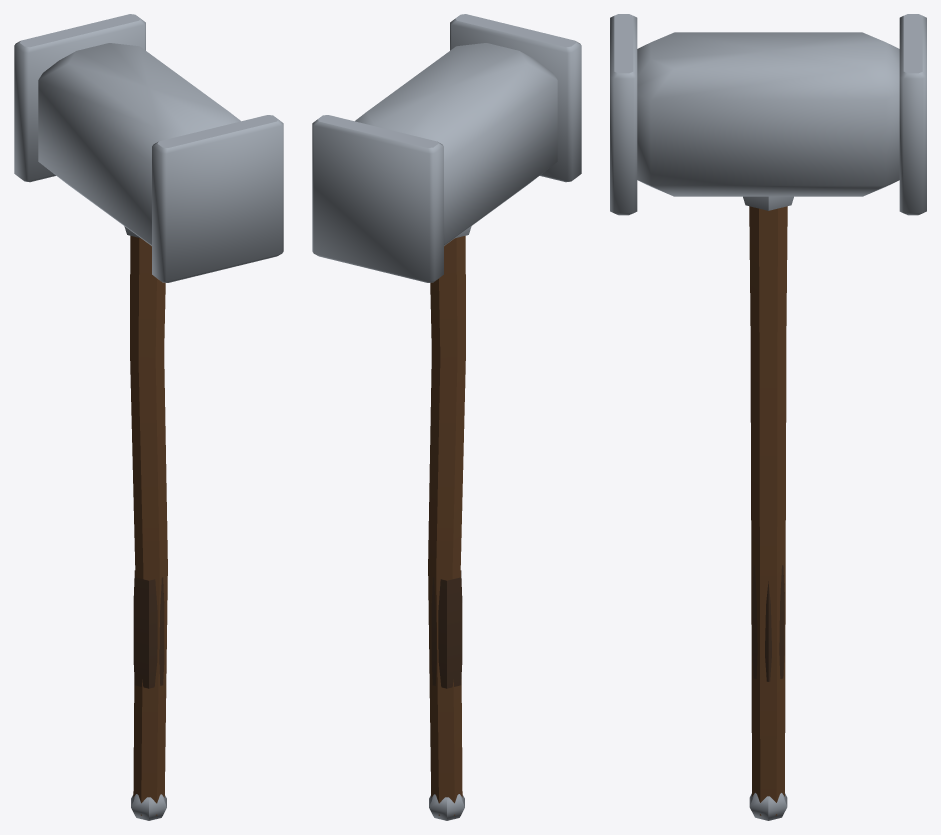
File: warhammer-iron.glb
3 renders of one model, left to right at view 1: azimuth 30°, elevation 25°; view 2: azimuth 150°, elevation 25°; view 3: azimuth 270°, elevation 25°, orthographic. The views are drawn at different scales.
Visible parts, largest first — view 1: warhammer-iron; view 2: warhammer-iron; view 3: warhammer-iron.
Boxes of the visible parts, x1,y1,x2,y2 form: warhammer-iron: (14, 14, 283, 820); warhammer-iron: (312, 14, 581, 820); warhammer-iron: (610, 14, 926, 820).
Size of the model in its own units: 0.19 by 1.09 by 0.405.
